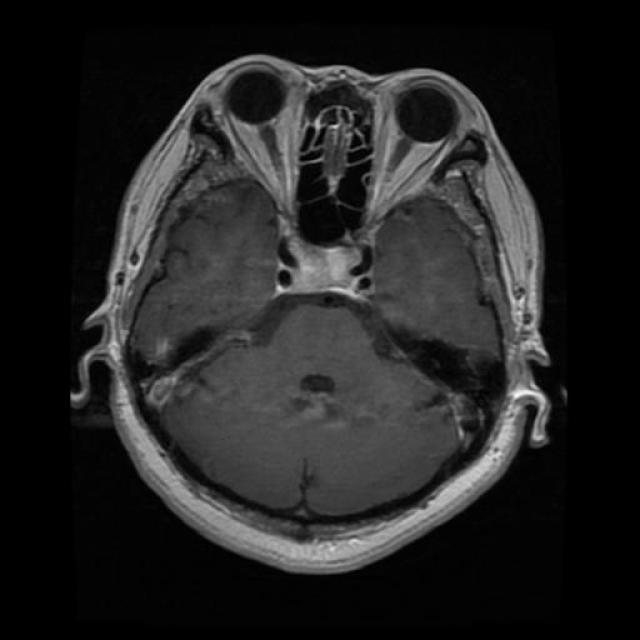pituitary: (278, 243, 374, 314)
